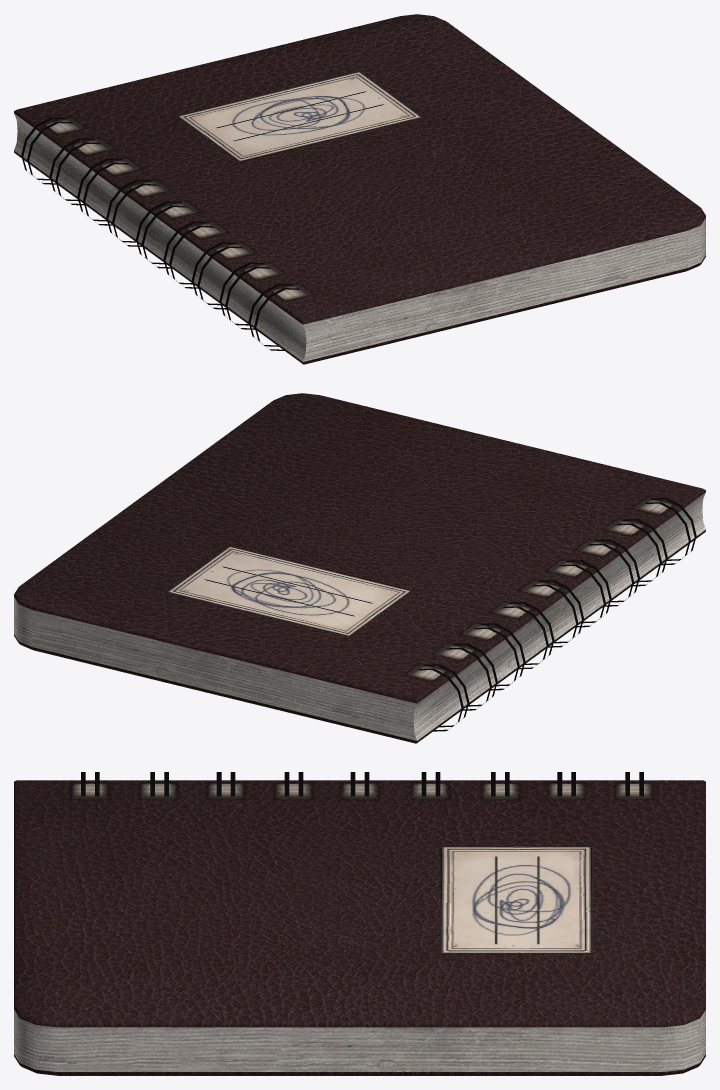
The model's file is book_notebook_erins_wau.dae.
3 views of the same model, one above another, from view 1: azimuth 30°, elevation 25°; view 2: azimuth 150°, elevation 25°; view 3: azimuth 270°, elevation 25° (orthographic). The views are drawn at different scales.
Visible parts, largest first — view 1: polySurface42; view 2: polySurface42; view 3: polySurface42.
Part boxes in pixels (x1=…): polySurface42: x1=14, y1=14, x2=705, y2=364; polySurface42: x1=14, y1=393, x2=705, y2=743; polySurface42: x1=14, y1=772, x2=705, y2=1075.
Size of the model in its own units: 0.215 by 0.0292 by 0.2473.
